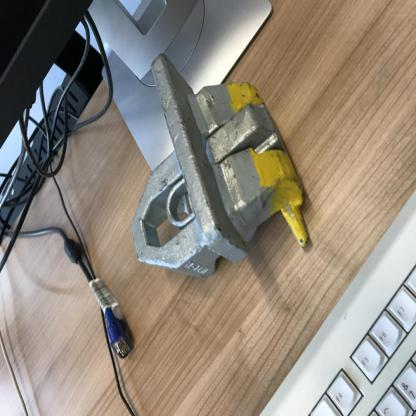Twistlock: (129, 46, 318, 284)
